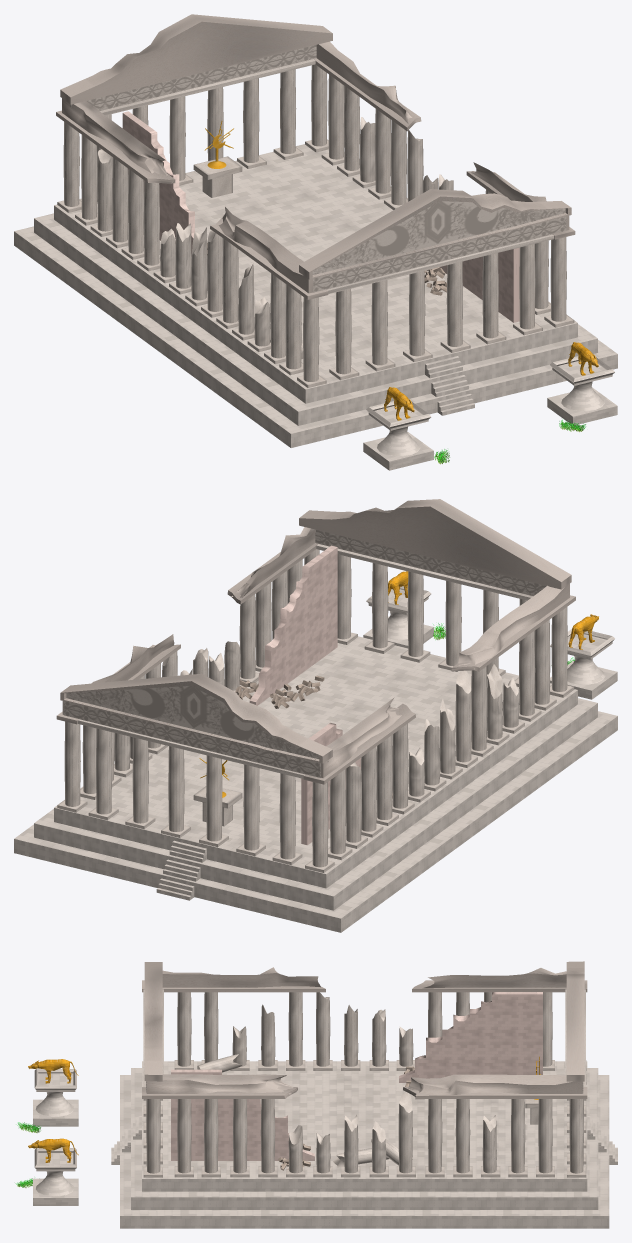
File: 306_bg_vegaA.fbx
3 renders of one model, top to bottom at view 1: azimuth 30°, elevation 25°; view 2: azimuth 150°, elevation 25°; view 3: azimuth 270°, elevation 25°, orthographic. The views are drawn at different scales.
Visible parts, largest first — view 1: pCube1, pCube2, pCube3, pCube61, pCube57, pCube58, pCube52, pCube53, pCube60, pCube62, pCube63, pCube48 (+43 smaller); view 2: pCube1, pCube3, pCube2, pCube57, pCube61, pCube63, pCube58, pCube53, pCube52, pCube60, pCube48, pCube59 (+39 smaller); view 3: pCube1, pCube3, pCube2, pCube62, pCube60, pCube58, pCube63, pCube57, pCube61, pCube59, pCube48, pCylinder48 (+37 smaller).
Part boxes in pixels (x1,y1,x2,y2): pCube1: [54, 144, 577, 403]; pCube2: [34, 213, 597, 425]; pCube3: [14, 226, 617, 447]; pCube61: [299, 189, 571, 279]; pCube57: [60, 14, 332, 104]; pCube58: [62, 98, 319, 293]; pCube52: [313, 216, 566, 292]; pCube53: [70, 45, 316, 110]; pCube60: [316, 41, 569, 230]; pCube62: [122, 111, 195, 256]; pCube63: [440, 247, 519, 322]; pCube48: [56, 110, 328, 299]; pCube1: [54, 636, 577, 888]; pCube3: [14, 711, 617, 932]; pCube2: [34, 698, 597, 910]; pCube57: [60, 673, 332, 763]; pCube61: [299, 499, 571, 589]; pCube63: [249, 545, 337, 705]; pCube58: [321, 583, 569, 777]; pCube53: [63, 701, 328, 777]; pCube52: [315, 530, 546, 596]; pCube60: [62, 527, 315, 714]; pCube48: [303, 595, 575, 784]; pCube59: [56, 543, 318, 724]; pCube1: [133, 1061, 595, 1191]; pCube3: [111, 1075, 617, 1228]; pCube2: [122, 1068, 606, 1209]; pCube62: [399, 992, 542, 1082]; pCube60: [146, 1074, 582, 1095]; pCube58: [162, 967, 566, 988]; pCube63: [171, 1069, 314, 1160]; pCube57: [566, 961, 584, 1081]; pCube61: [144, 962, 162, 1081]; pCube59: [142, 1087, 587, 1099]; pCube48: [142, 980, 587, 992]; pCylinder48: [398, 1092, 412, 1173].
Size of what is drawn, in the model's own units: 2035 by 1199 by 3683.
